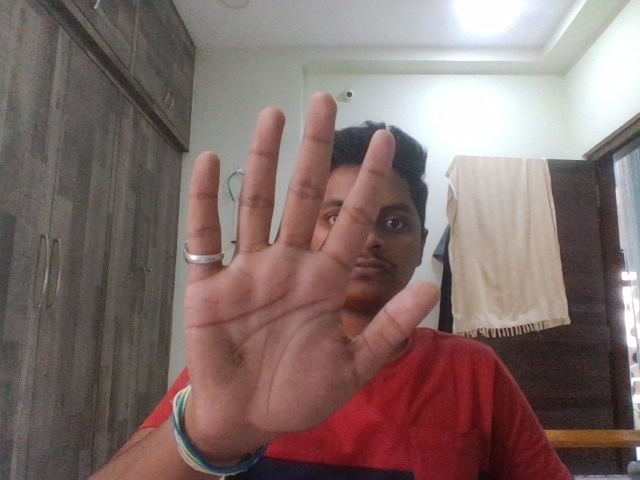Hello: (141, 80, 459, 454)
